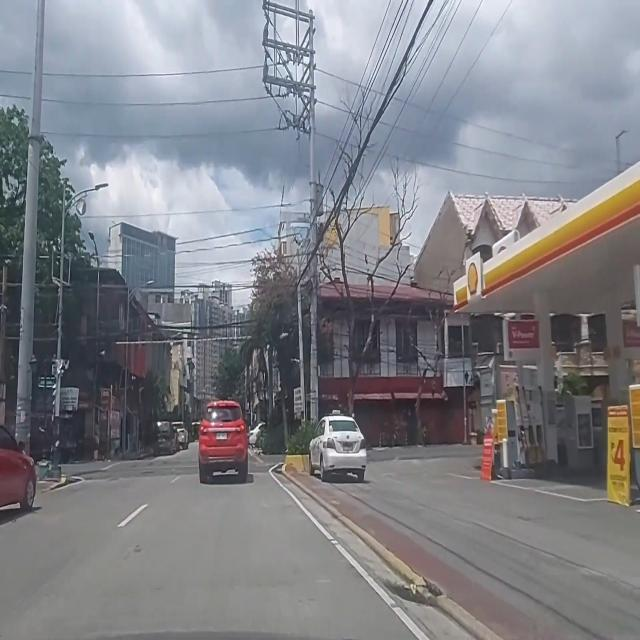car: (308, 408, 368, 482), (199, 400, 248, 486), (0, 422, 37, 514), (153, 421, 177, 456), (248, 422, 266, 448)
